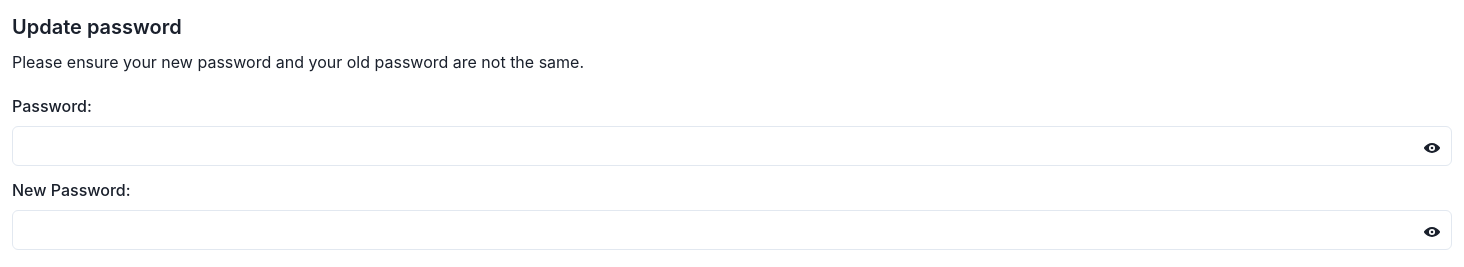
Scenario: UpdatePasswordForm › should submit successfully
The image size is (1464, 267).
Type "oldpassword" into the password field labelled "Password:".
click(732, 146); type("oldpassword")  # box [12,126,1452,166]
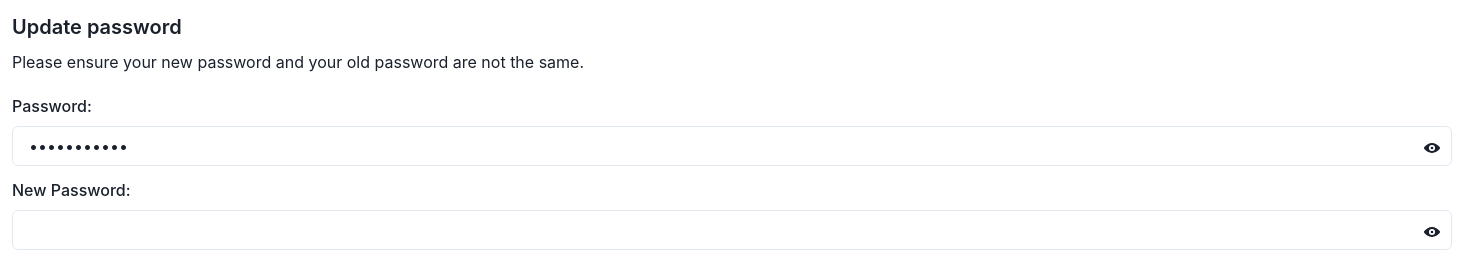
Type "newpassword" into the password field labelled "New Password:".
click(732, 230); type("newpassword")  # box [12,210,1452,250]
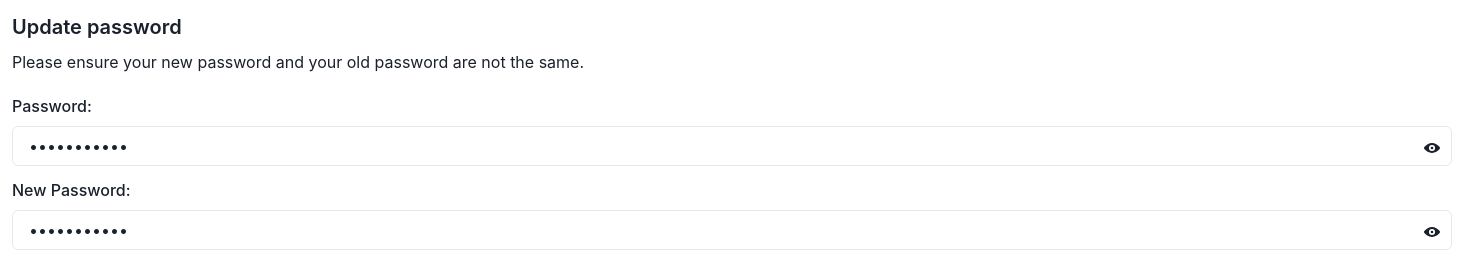
Submit the form, box [12,94,1452,250]
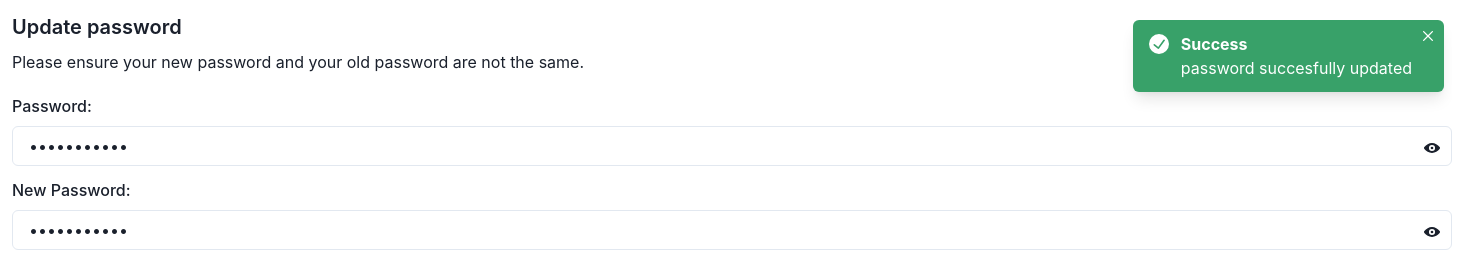
Now the 1st text "password succesfully updated" is shown, box [1181,56,1412,80]
